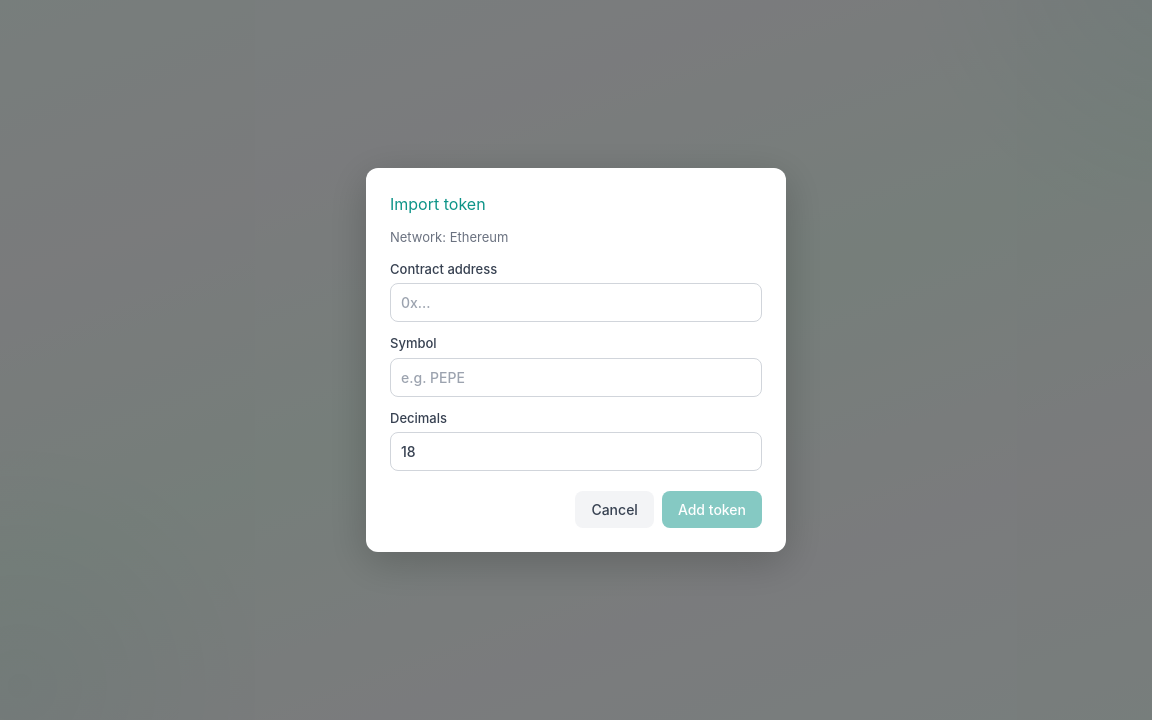
AddTokenDialog › disables submit until a valid address + symbol are entered
Check: the button "Add token" is disabled, box [662,491,762,528]
# Invalid address keeps it disabled and shows a hint.
In the field with placeholder "0x...": (576, 302) [390,283,762,322], type "0xnotvalid"
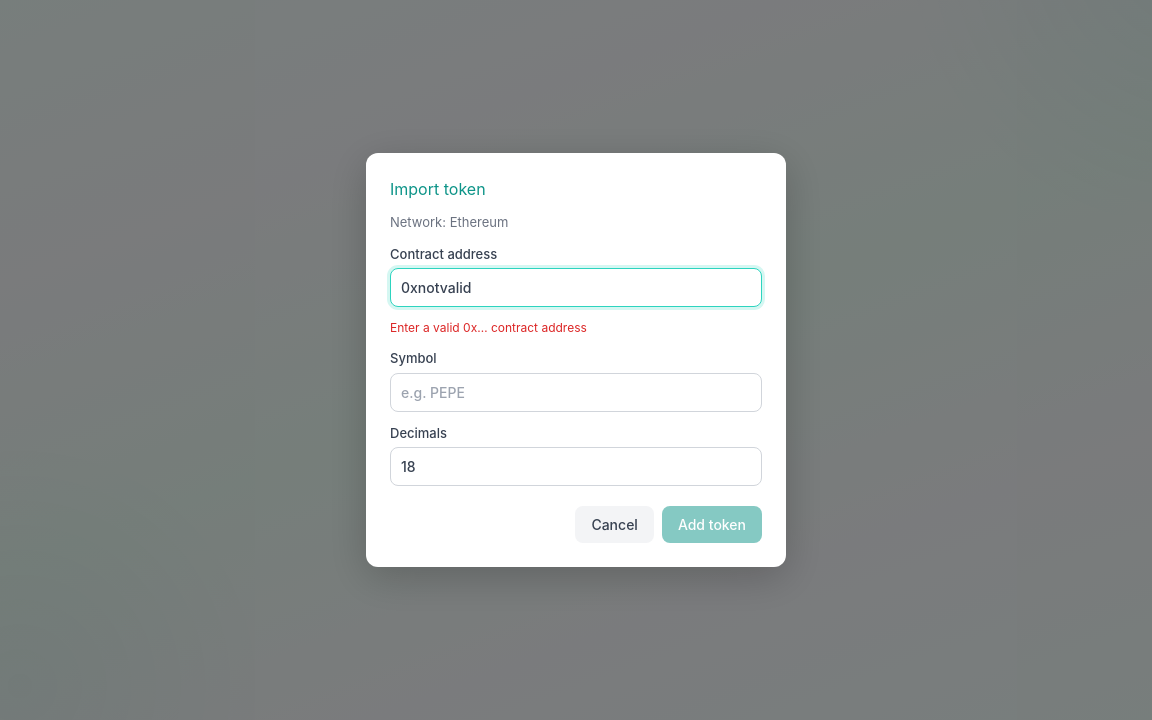
Check: the button "Add token" is disabled, box [662,506,762,543]
Check: the text "Enter a valid 0x… contract address" is shown, box [390,320,587,335]
